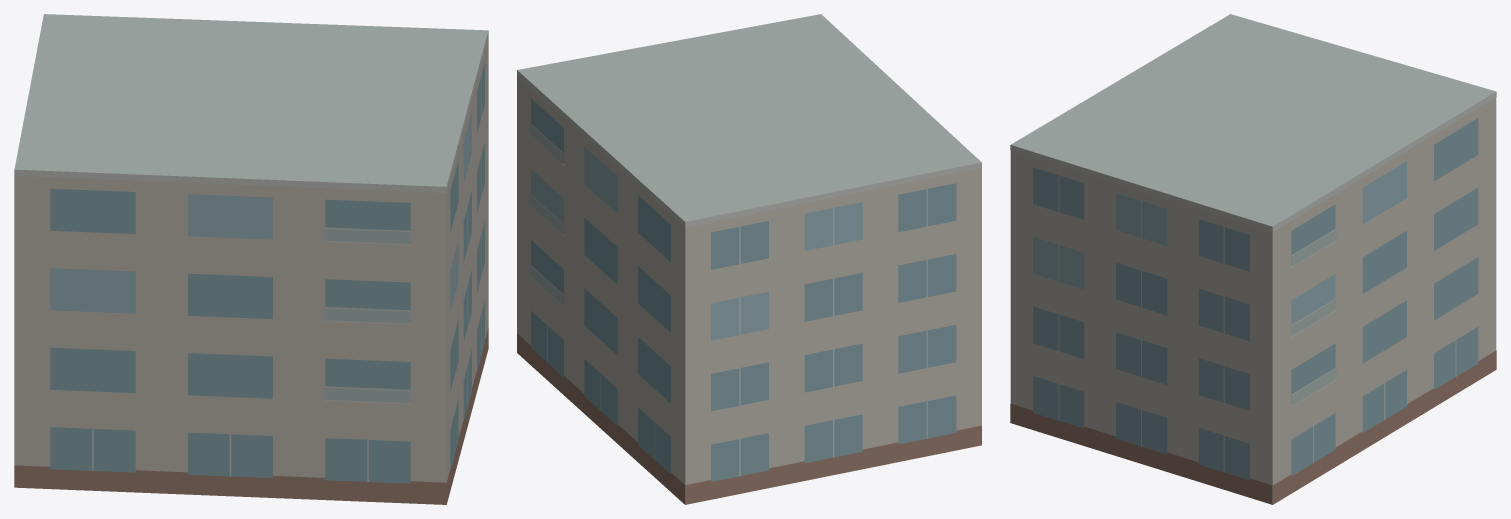
Rendered from survey-upis-32837349.glb.
3 renders of one model, left to right at view 1: azimuth 30°, elevation 25°; view 2: azimuth 150°, elevation 25°; view 3: azimuth 270°, elevation 25°, orthographic. The views are drawn at different scales.
Visible parts, largest first — view 1: survey-upis-32837349.tmp; view 2: survey-upis-32837349.tmp; view 3: survey-upis-32837349.tmp.
Part boxes in pixels (x1,y1,x2,y2): survey-upis-32837349.tmp: (14, 14, 488, 504); survey-upis-32837349.tmp: (517, 14, 981, 504); survey-upis-32837349.tmp: (1010, 14, 1496, 504).
Bounding box in the file's own units: 20.5 × 12.5 × 19.8.
